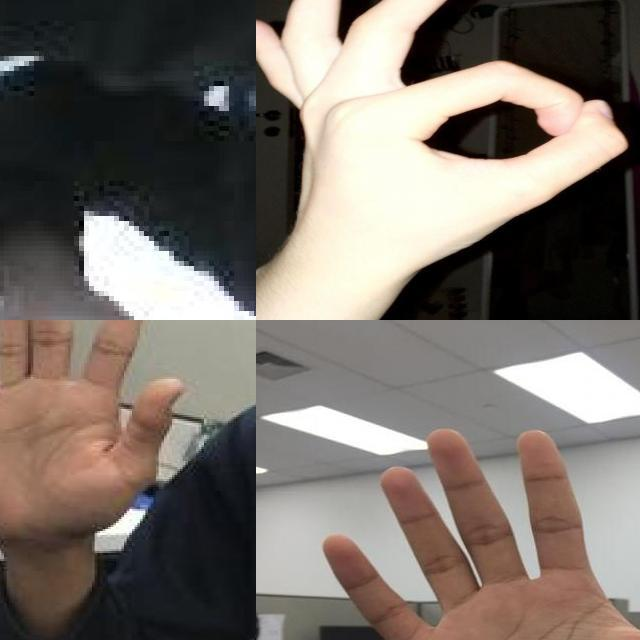hand: (256, 0, 628, 286), (320, 425, 640, 640), (0, 320, 190, 551)
